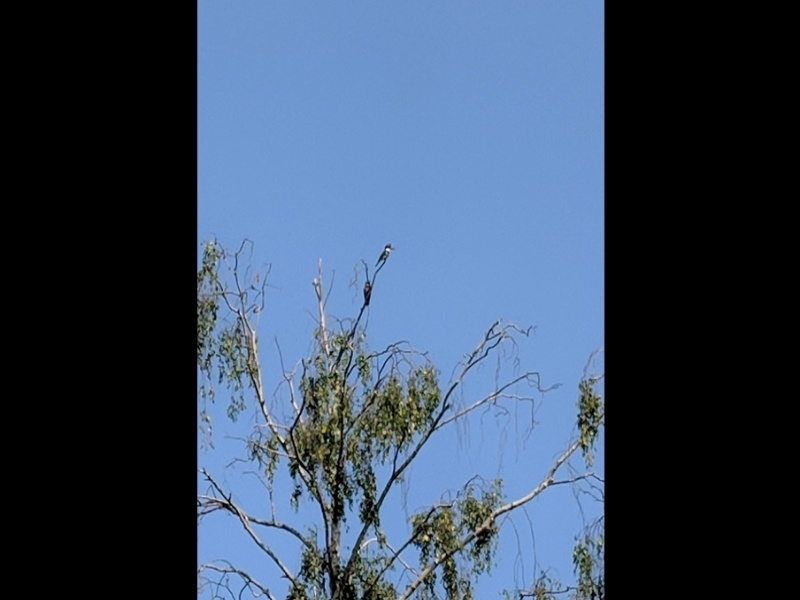kingfisher: (377, 244, 393, 267)
